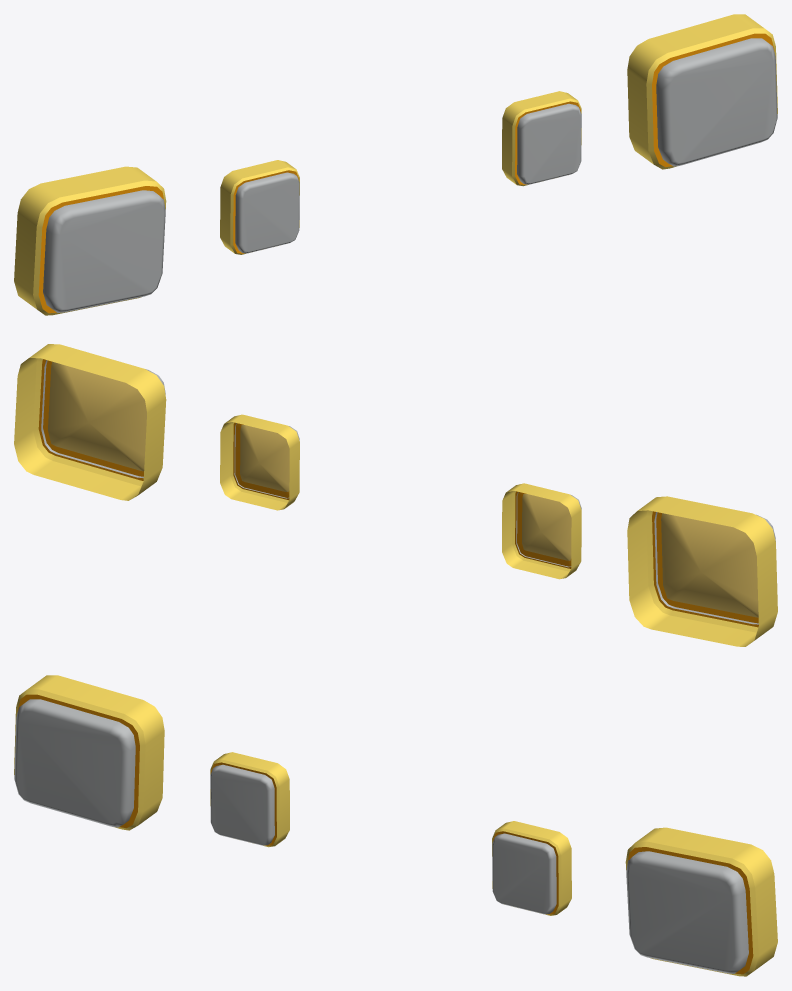
The model's file is Car_14_Headlight_Cool.fbx.
3 renders of one model, top to bottom at view 1: azimuth 30°, elevation 25°; view 2: azimuth 150°, elevation 25°; view 3: azimuth 330°, elevation 25°, orthographic.
Parts seen in each view (by area): view 1: Car_14_Headlight_Cool; view 2: Car_14_Headlight_Cool; view 3: Car_14_Headlight_Cool.
Part boxes in pixels (x1,y1,x2,y2): Car_14_Headlight_Cool: (14,14,777,315); Car_14_Headlight_Cool: (14,344,777,646); Car_14_Headlight_Cool: (14,675,777,976).
Bounding box in the file's own units: 134 × 9.7 × 20.8.
